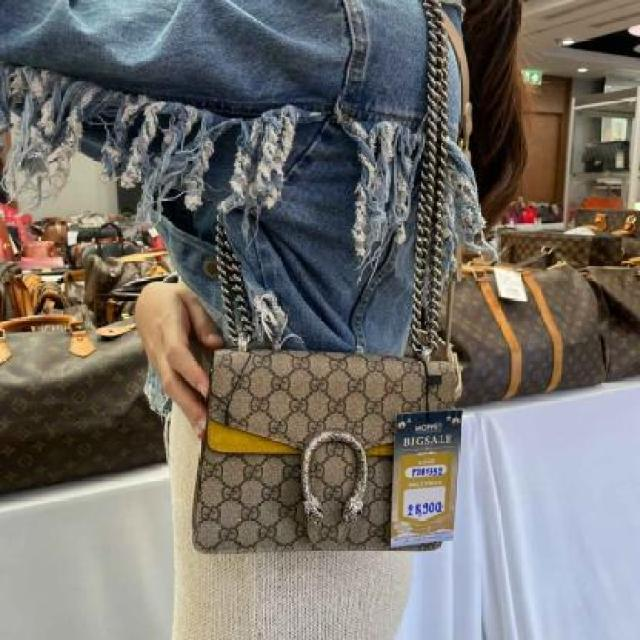Bag: (171, 0, 497, 589)
